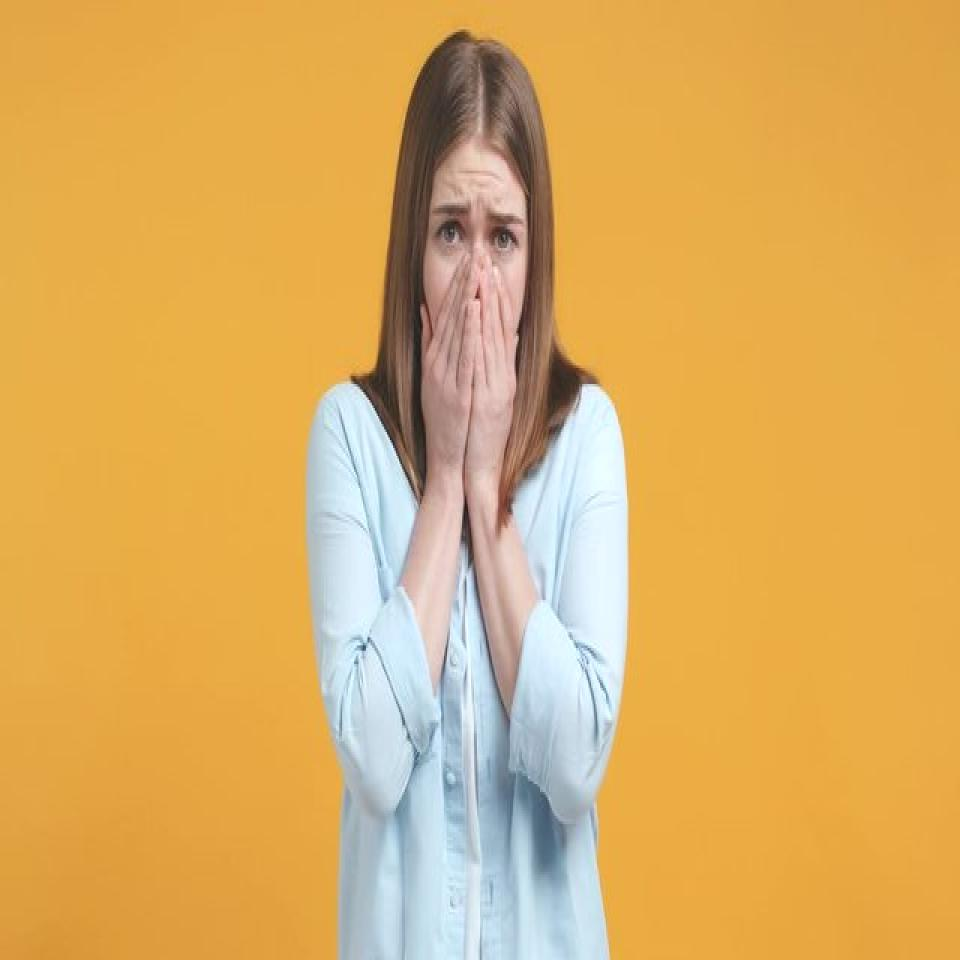Scared: (400, 150, 534, 440)
